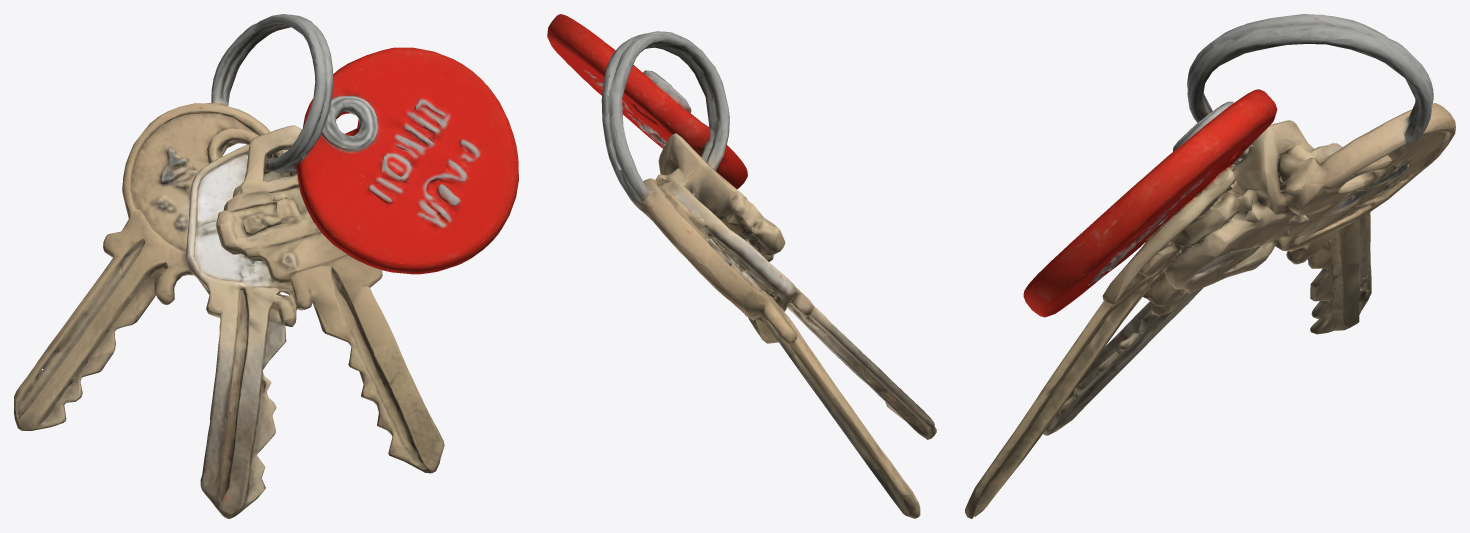
File: keys.glb
3 renders of one model, left to right at view 1: azimuth 30°, elevation 25°; view 2: azimuth 150°, elevation 25°; view 3: azimuth 270°, elevation 25°, orthographic. The views are drawn at different scales.
Parts seen in each view (by area): view 1: world; view 2: world; view 3: world.
Part boxes in pixels (x1,y1,x2,y2): world: [14, 14, 518, 518]; world: [547, 14, 936, 518]; world: [965, 14, 1455, 518].
Bounding box in the file's own units: 0.0749 × 0.0687 × 0.0577.
1 material, 1 textured.
